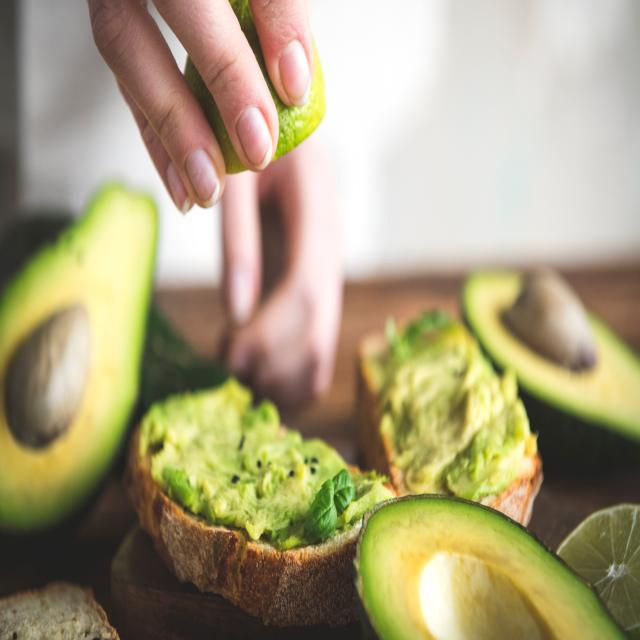aguacate: (3, 173, 165, 557)
